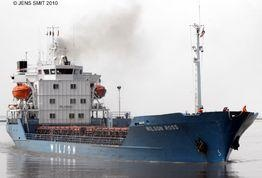Cargoship: (3, 6, 261, 163)
